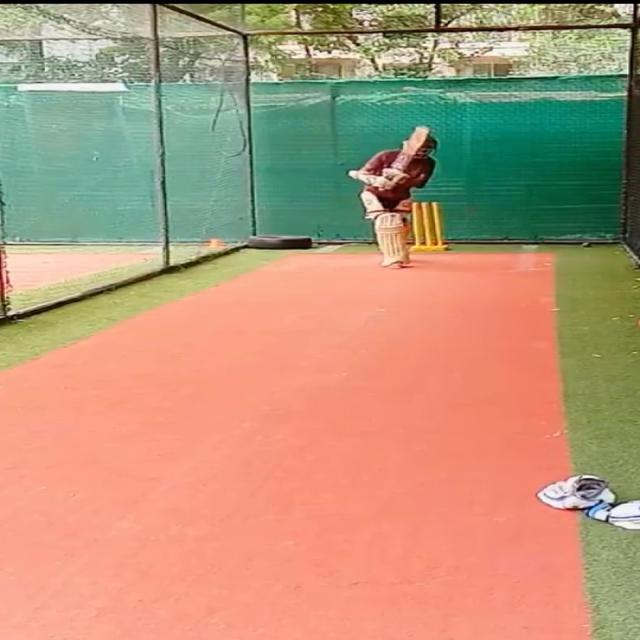stump: (411, 200, 448, 250)
